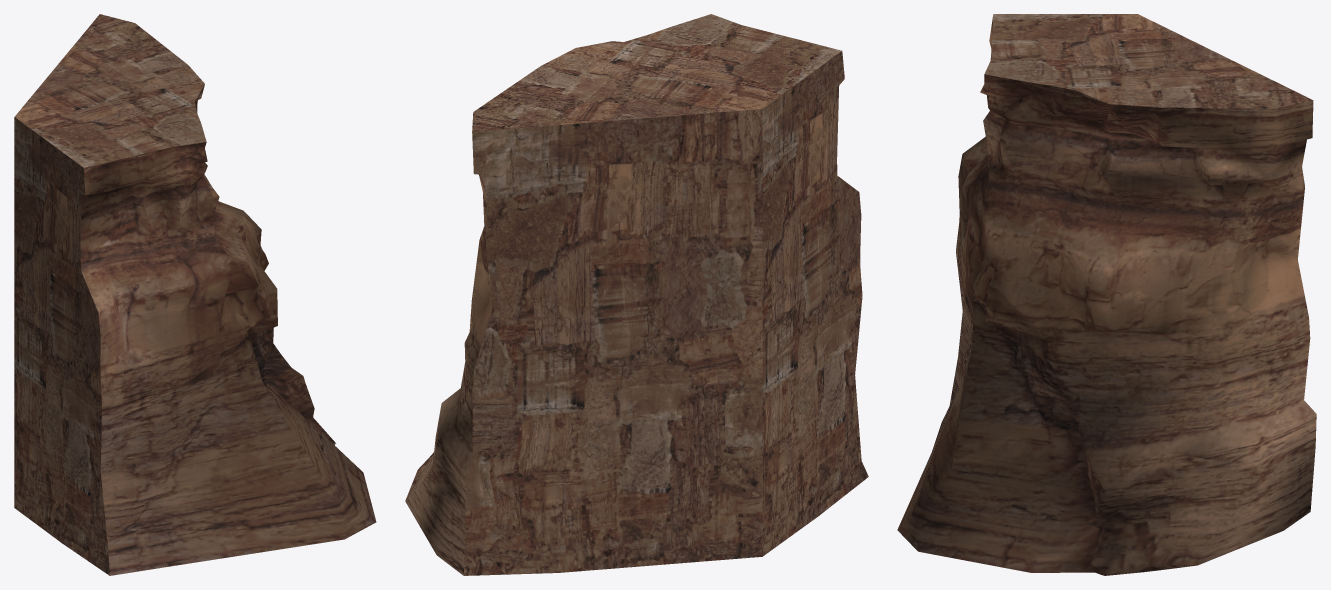
Rendered from Mesh_Cliff_Corner_01_Slope_AS.fbx.
3 views of the same model, side by side, from view 1: azimuth 30°, elevation 25°; view 2: azimuth 150°, elevation 25°; view 3: azimuth 270°, elevation 25° (orthographic). The views are drawn at different scales.
Visible parts, largest first — view 1: Mesh_Cliff_Corner_01_Slope_AS; view 2: Mesh_Cliff_Corner_01_Slope_AS; view 3: Mesh_Cliff_Corner_01_Slope_AS.
Boxes of the visible parts, left/top/right/bottom form: Mesh_Cliff_Corner_01_Slope_AS: left=14, top=14, right=376, bottom=575; Mesh_Cliff_Corner_01_Slope_AS: left=405, top=14, right=868, bottom=575; Mesh_Cliff_Corner_01_Slope_AS: left=897, top=14, right=1316, bottom=575.
Bounding box in the file's own units: 5403 × 6613 × 6165.
